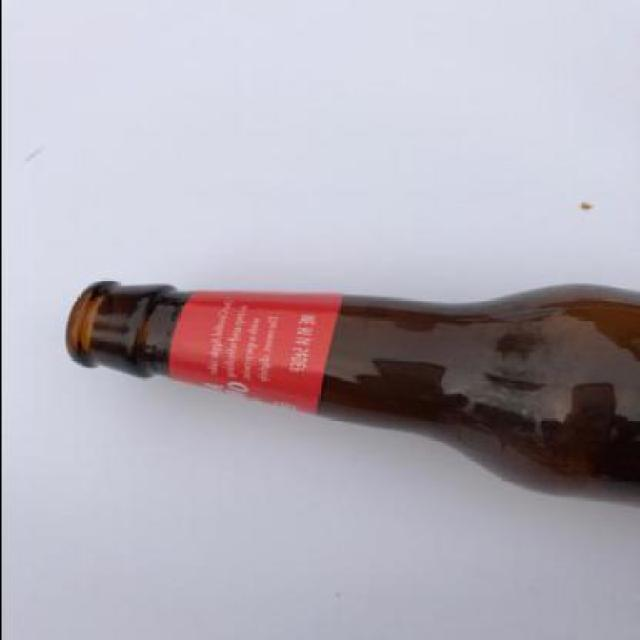glass: (61, 279, 638, 506)
